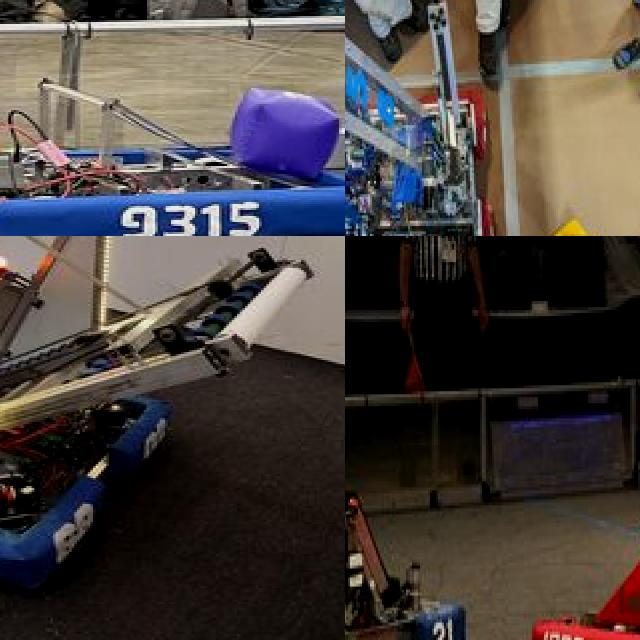FRC-Robots: (0, 236, 322, 582), (0, 39, 345, 236), (345, 0, 542, 236), (552, 415, 640, 640)
